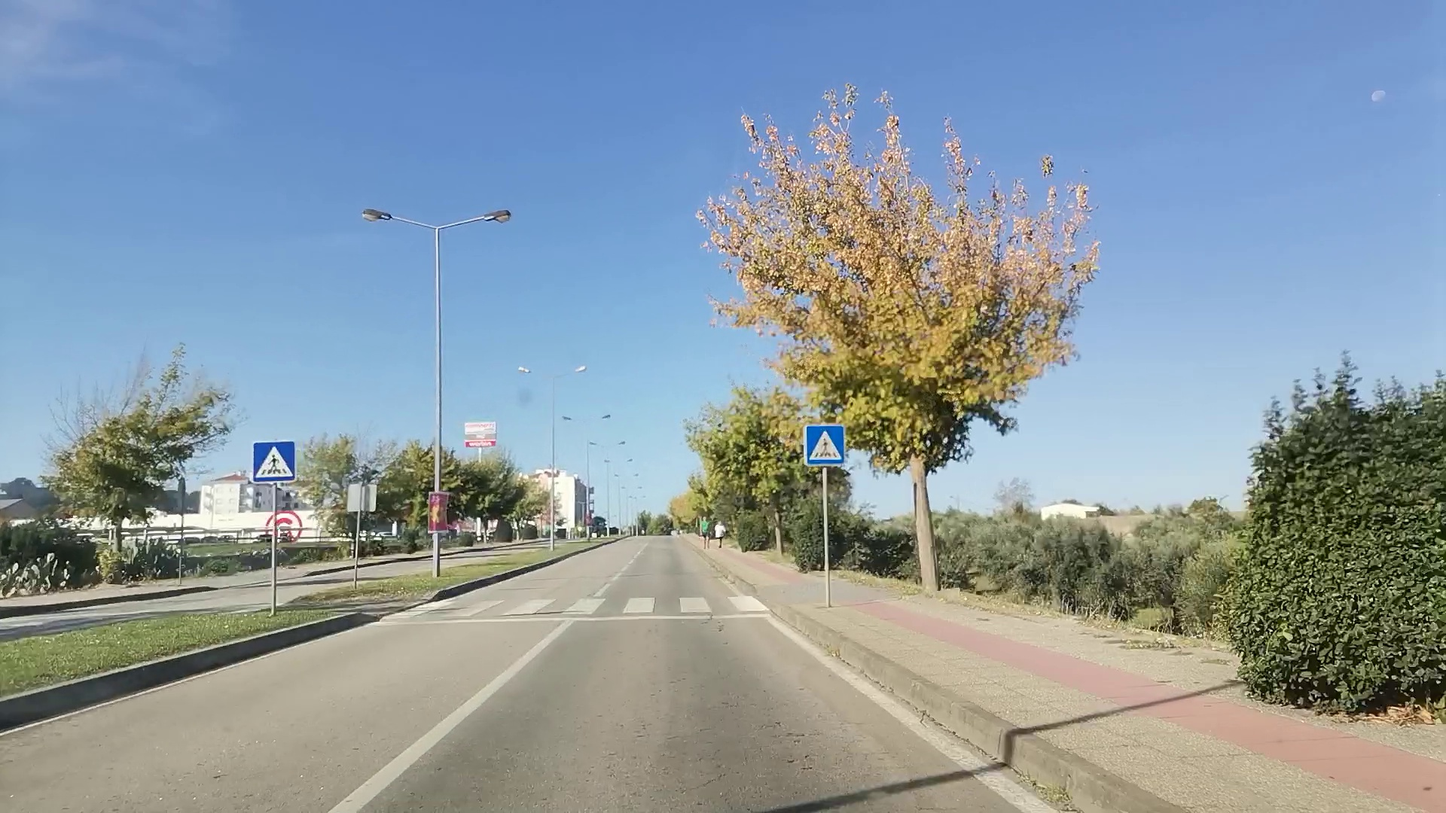Stairs: (402, 590, 778, 626)
